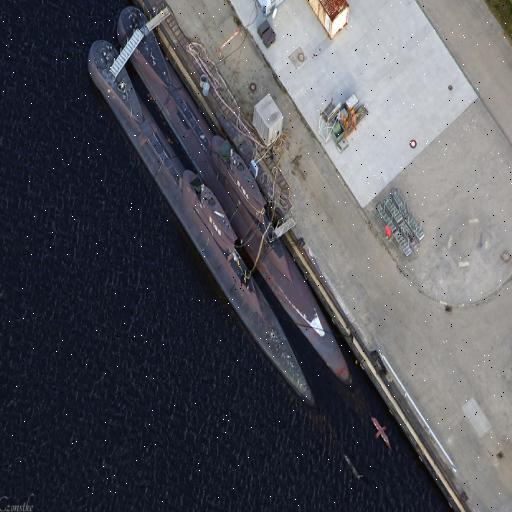submarine: (119, 8, 359, 389), (87, 40, 333, 397)
